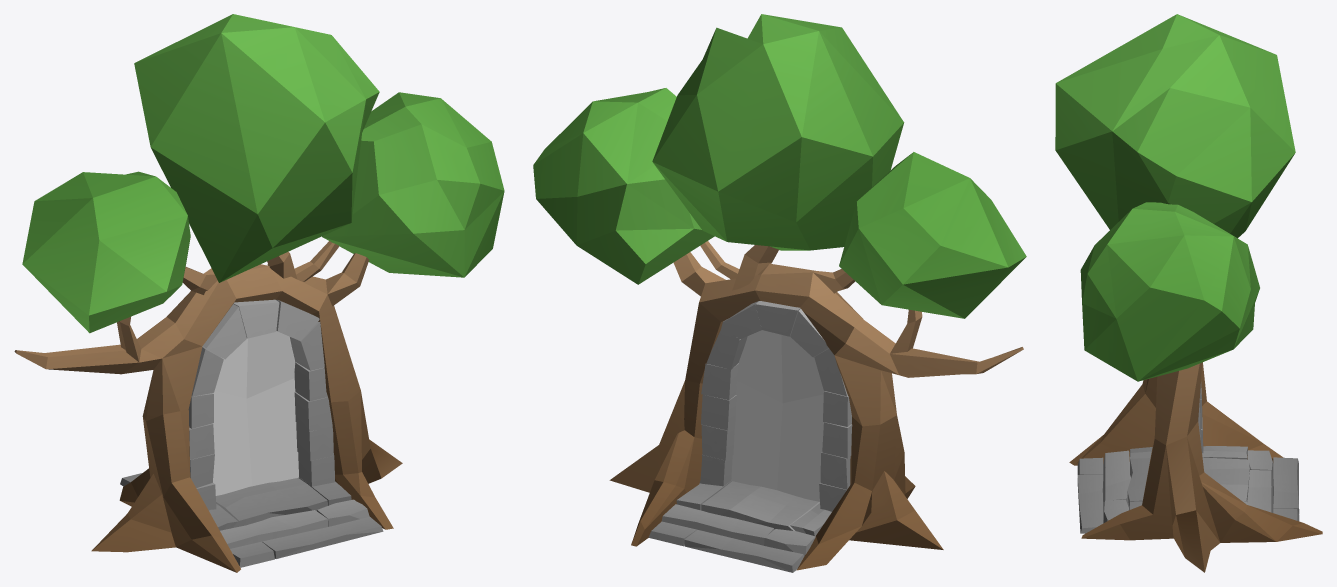
The model's file is Tree_Portal_Green_01.fbx.
3 views of the same model, side by side, from view 1: azimuth 30°, elevation 25°; view 2: azimuth 150°, elevation 25°; view 3: azimuth 270°, elevation 25° (orthographic). The views are drawn at different scales.
Visible parts, largest first — view 1: Tree_Portal_Green; view 2: Tree_Portal_Green; view 3: Tree_Portal_Green.
Boxes of the visible parts, x1,y1,x2,y2 form: Tree_Portal_Green: (14, 14, 504, 572); Tree_Portal_Green: (533, 14, 1026, 572); Tree_Portal_Green: (1055, 14, 1322, 572).
Bounding box in the file's own units: 12.03 × 11.97 × 6.2.
